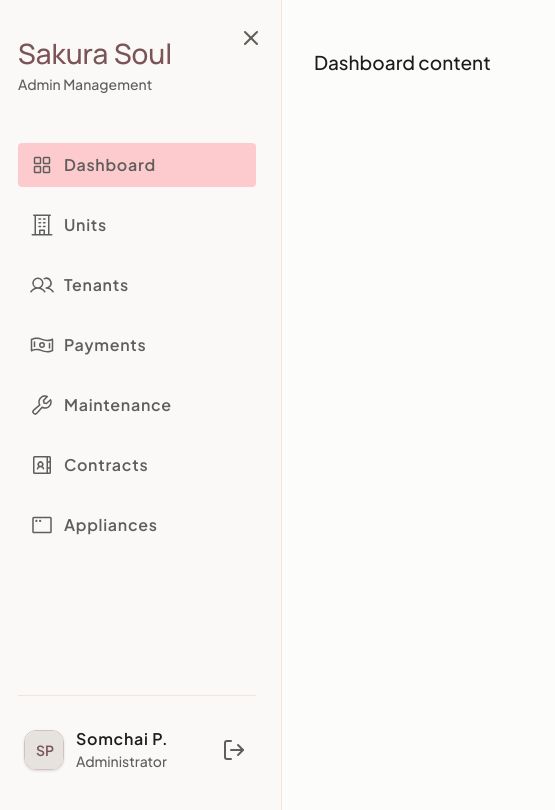
Test: AppLayout › navigates to a sidebar destination and marks it as active
Click the link "Tenants".
click(79, 285)  # box top-left (30, 273), bottom-right (129, 297)
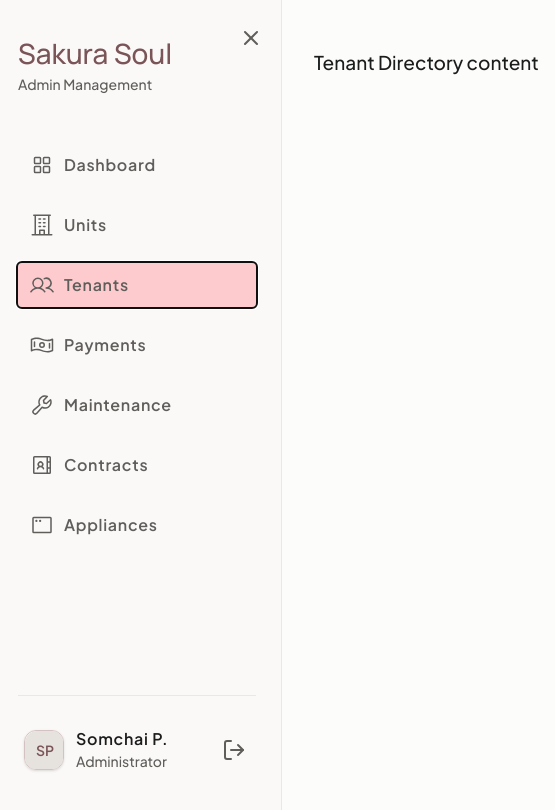
Expected: the heading "Tenant Directory content" is shown, top-left (314, 50), bottom-right (539, 74)
